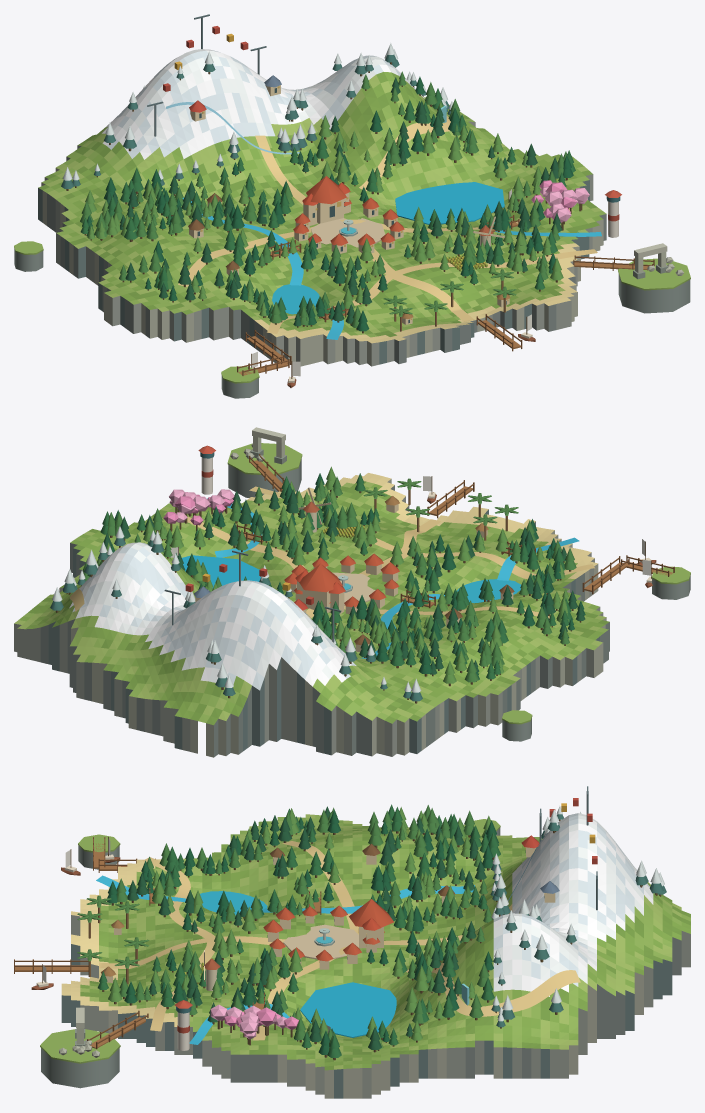
Rendered from star-island.glb.
The picture shows the model from 3 angles, top to bottom: view 1: azimuth 30°, elevation 25°; view 2: azimuth 150°, elevation 25°; view 3: azimuth 270°, elevation 25°; orthographic projection. The views are drawn at different scales.
Visible parts, largest first — view 1: Faceted island terrain, Star Island, Moonlight Lake, Village Square; view 2: Faceted island terrain, Star Island, Moonlight Lake, Village Square; view 3: Faceted island terrain, Star Island, Moonlight Lake, Village Square.
Part boxes in pixels (x1=…): Faceted island terrain: x1=38, y1=49, x2=606, y2=366; Star Island: x1=14, y1=14, x2=690, y2=398; Moonlight Lake: x1=395, y1=182, x2=504, y2=224; Village Square: x1=311, y1=218, x2=385, y2=247; Faceted island terrain: x1=14, y1=473, x2=609, y2=757; Star Island: x1=50, y1=427, x2=690, y2=741; Moonlight Lake: x1=182, y1=555, x2=260, y2=588; Village Square: x1=332, y1=572, x2=375, y2=605; Faceted island terrain: x1=61, y1=813, x2=690, y2=1098; Star Island: x1=14, y1=786, x2=666, y2=1088; Moonlight Lake: x1=300, y1=982, x2=396, y2=1037; Village Square: x1=283, y1=924, x2=358, y2=959.
Size of the model in its own units: 65.73 by 19.96 by 72.06.
